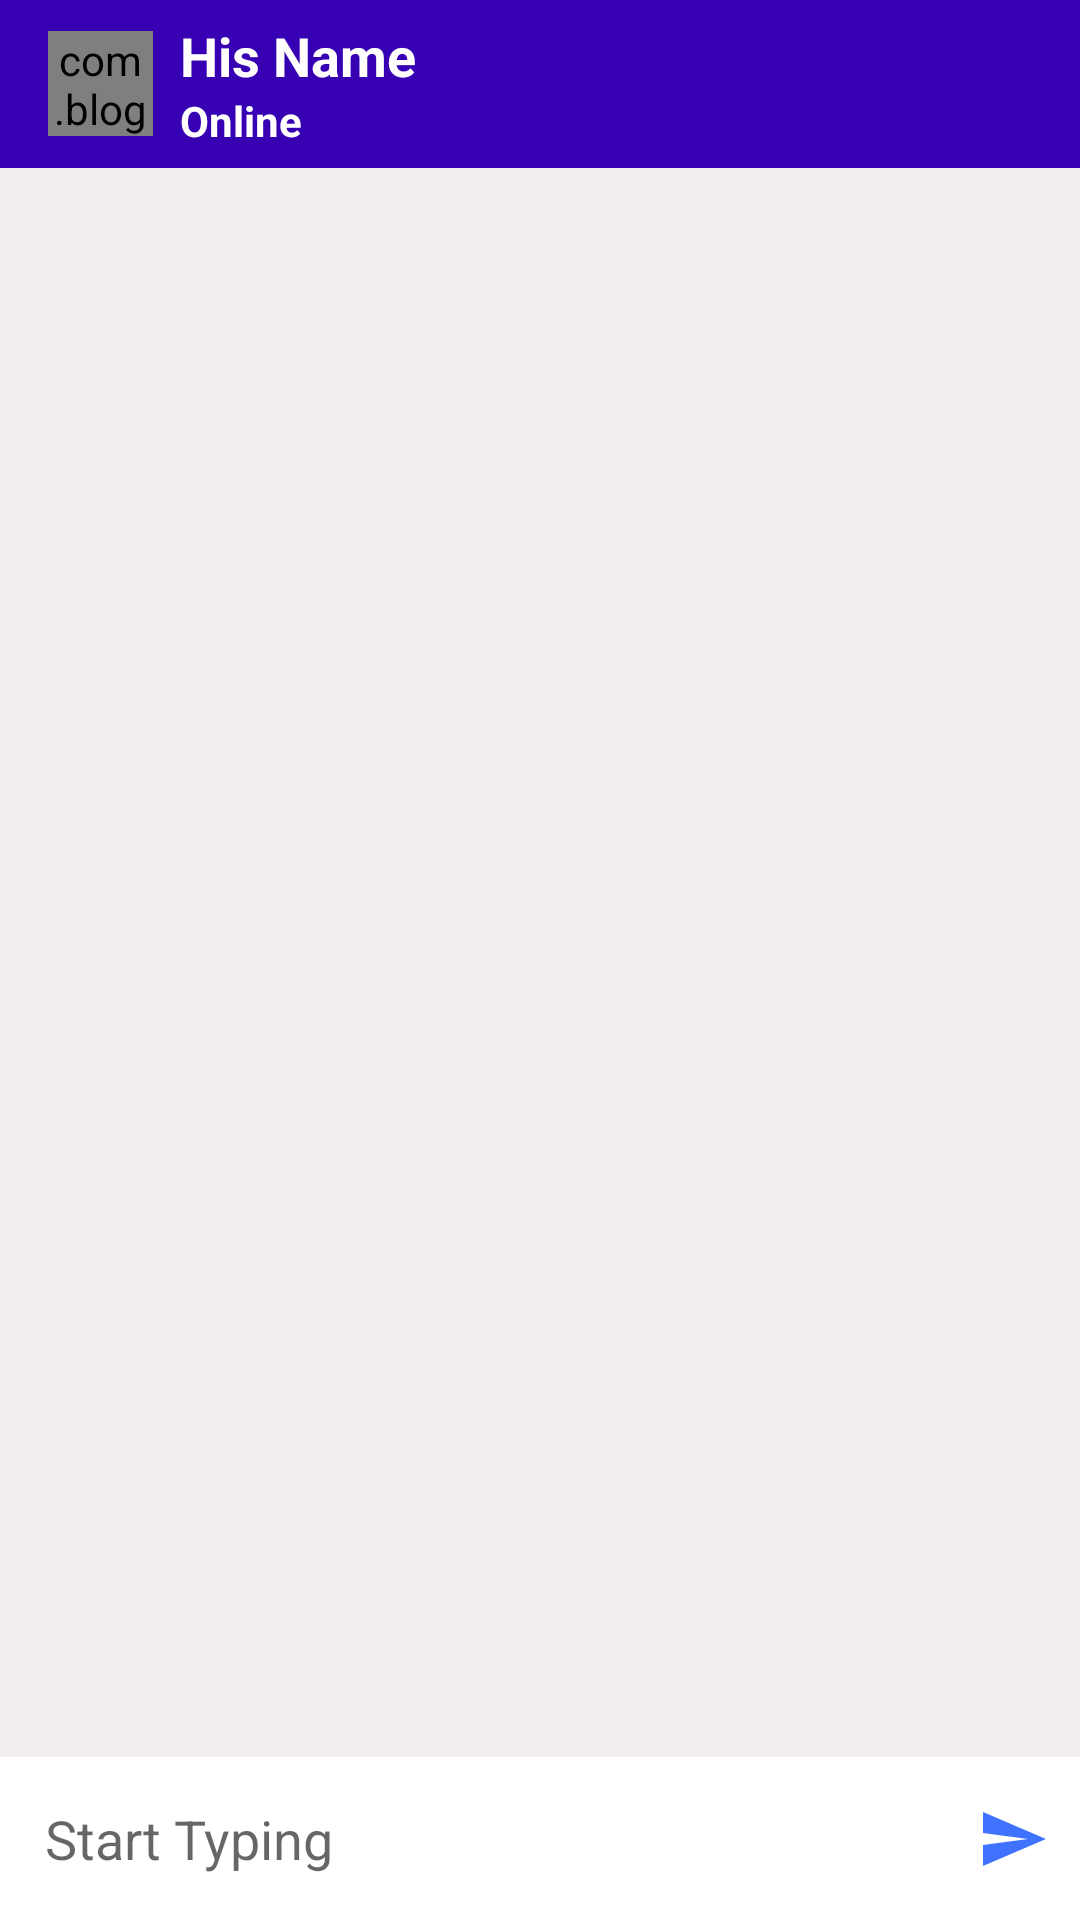

Locate icon controls on the screen. Image size 1080w x 1920h, boxes as (x1, y1, x2, y2).
send: (983, 1812, 1046, 1866)
